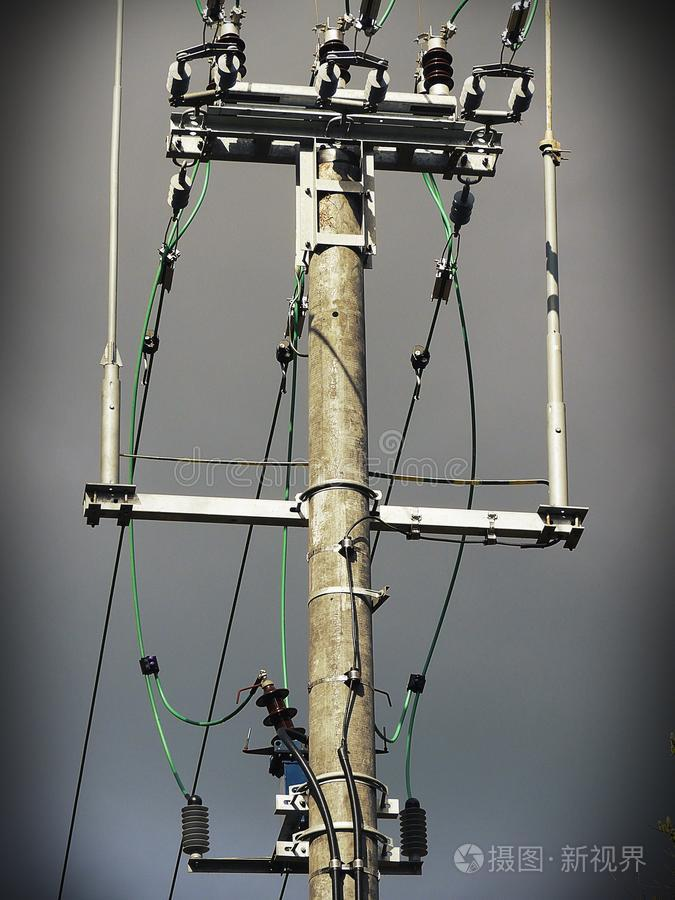insulator: (252, 685, 307, 735), (164, 172, 198, 208)
